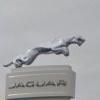Statue: (5, 26, 100, 74)
